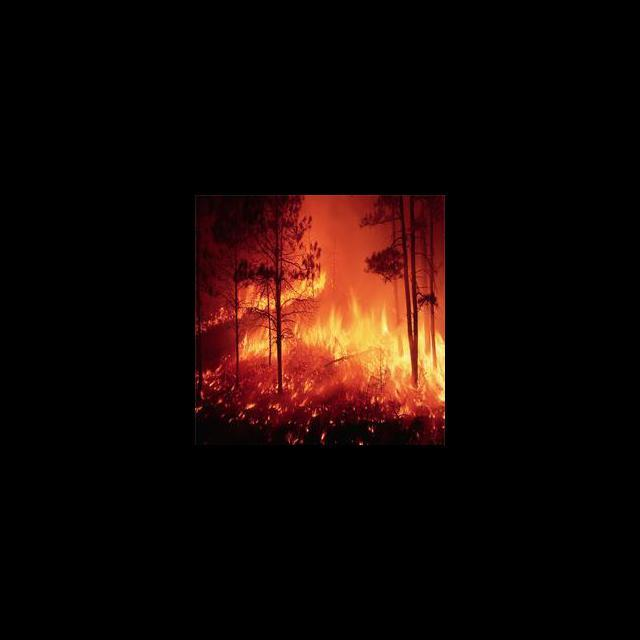Fire: (196, 263, 444, 406)
